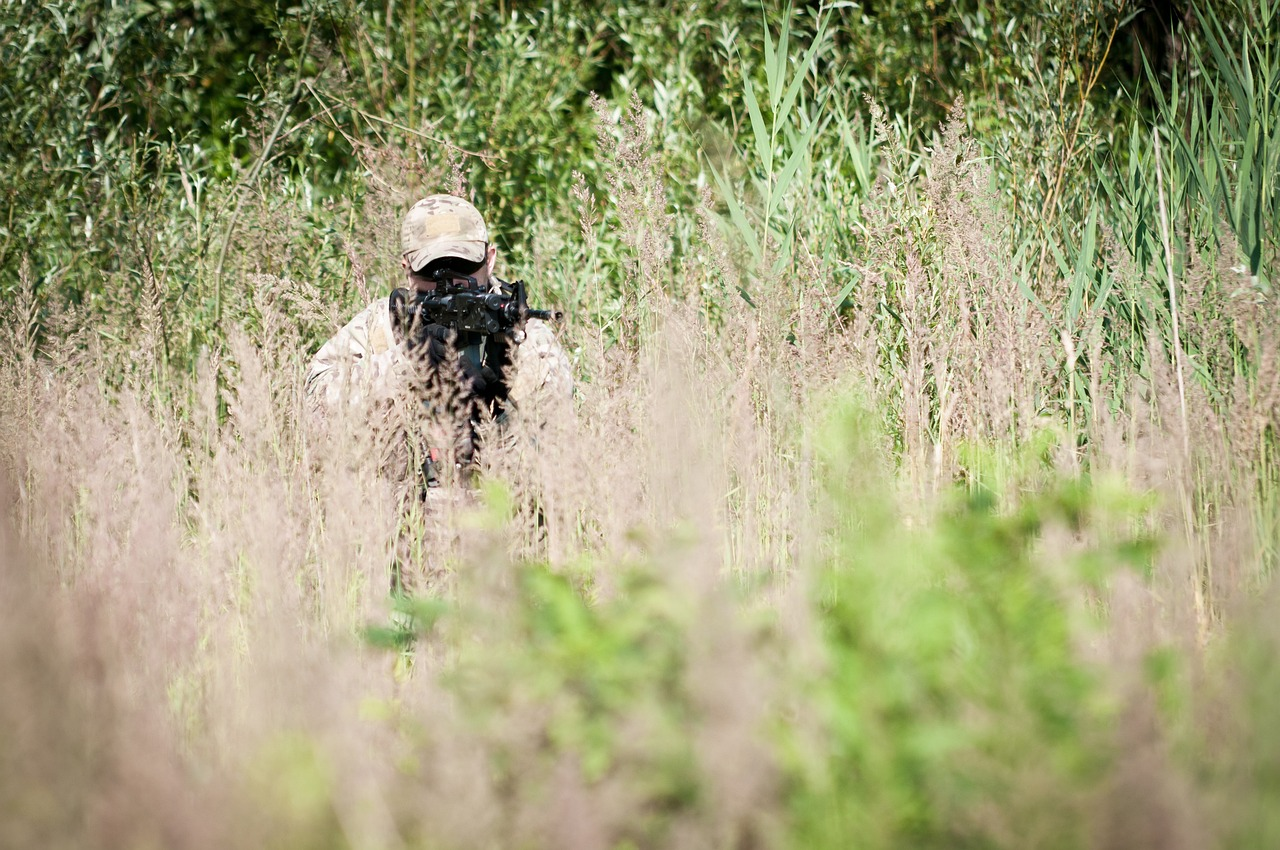gun: (382, 261, 565, 377)
